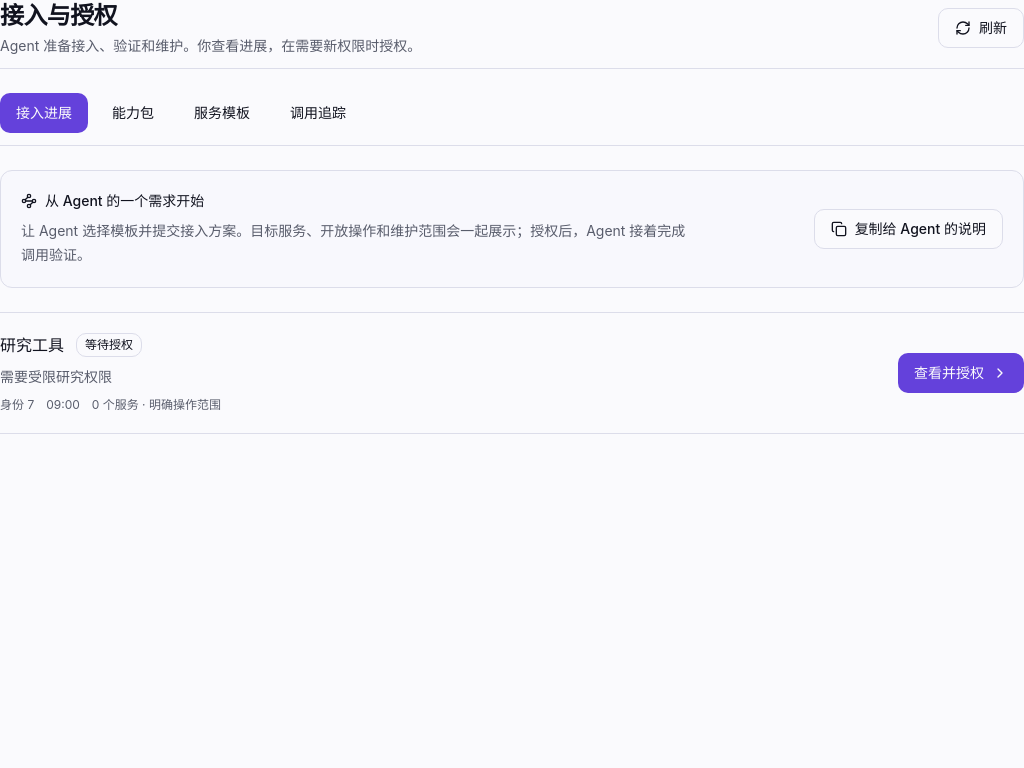
Test: shows the complete effective scope and retained capabilities before approval
The width and height of the screenshot is (1024, 768).
Click the button "查看并授权" at {"x": 961, "y": 373}, box [898,353,1023,393]
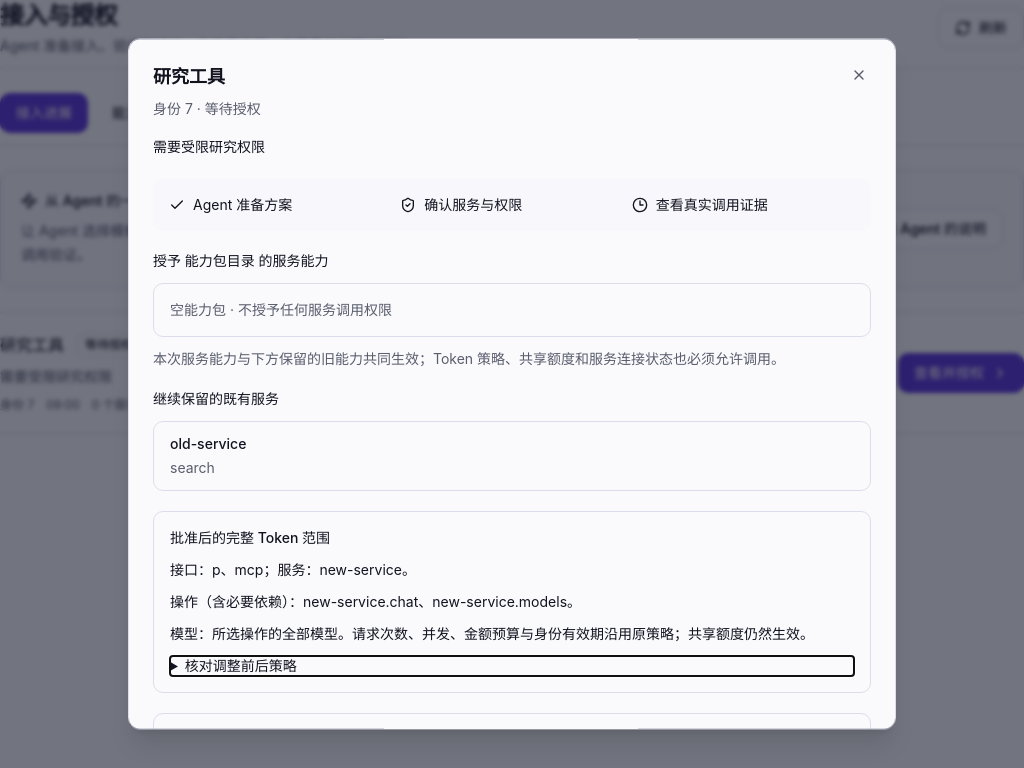
expect the dialog shows "继续保留的既有服务": met, box [153,390,279,407]
expect the dialog shows "old-service": met, box [170,435,246,452]
expect the dialog shows "new-service.models": met, box [303,593,567,610]
